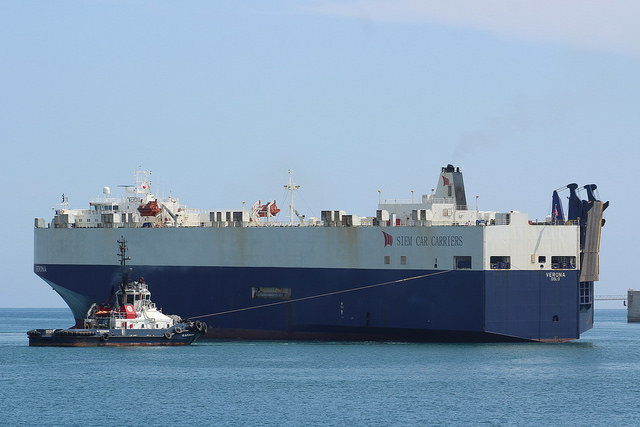PCC: (23, 166, 618, 342)
tug_boat: (28, 257, 210, 353)
